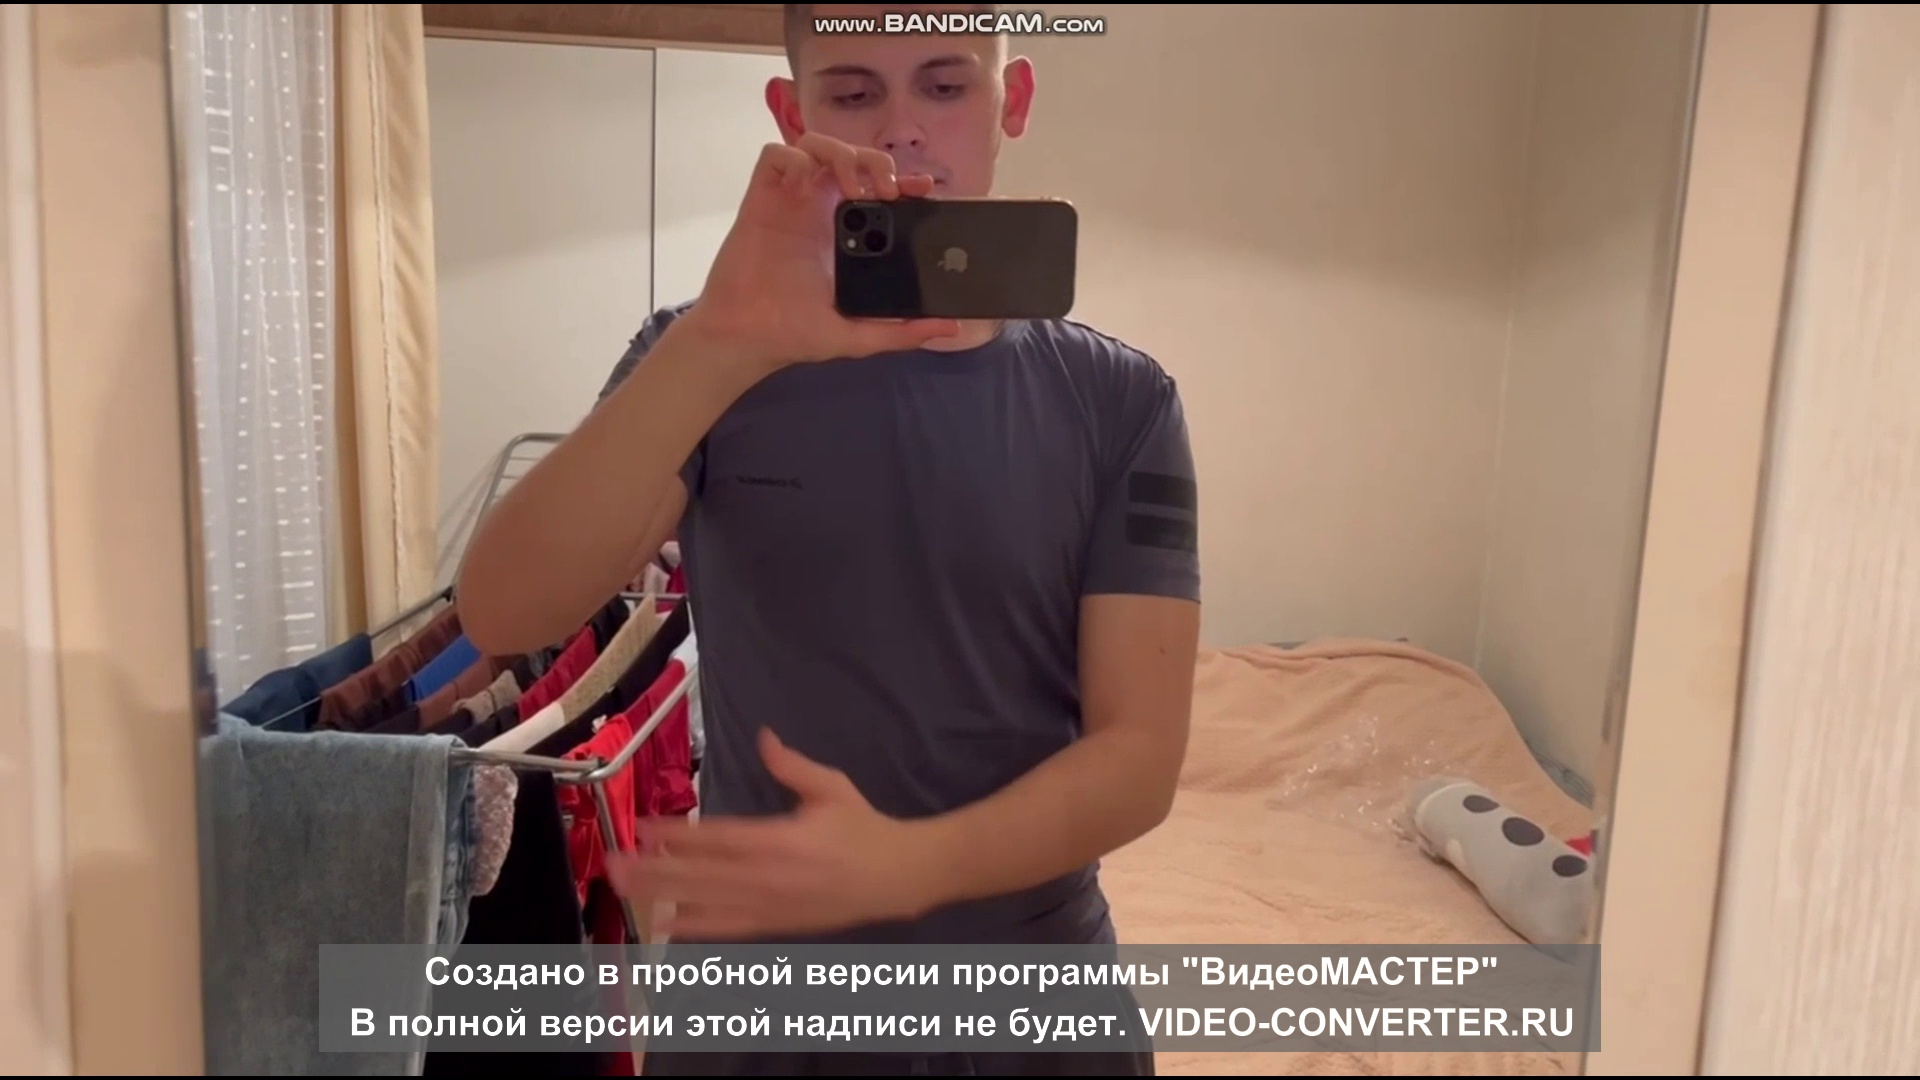Кисть: (609, 724, 909, 935)
